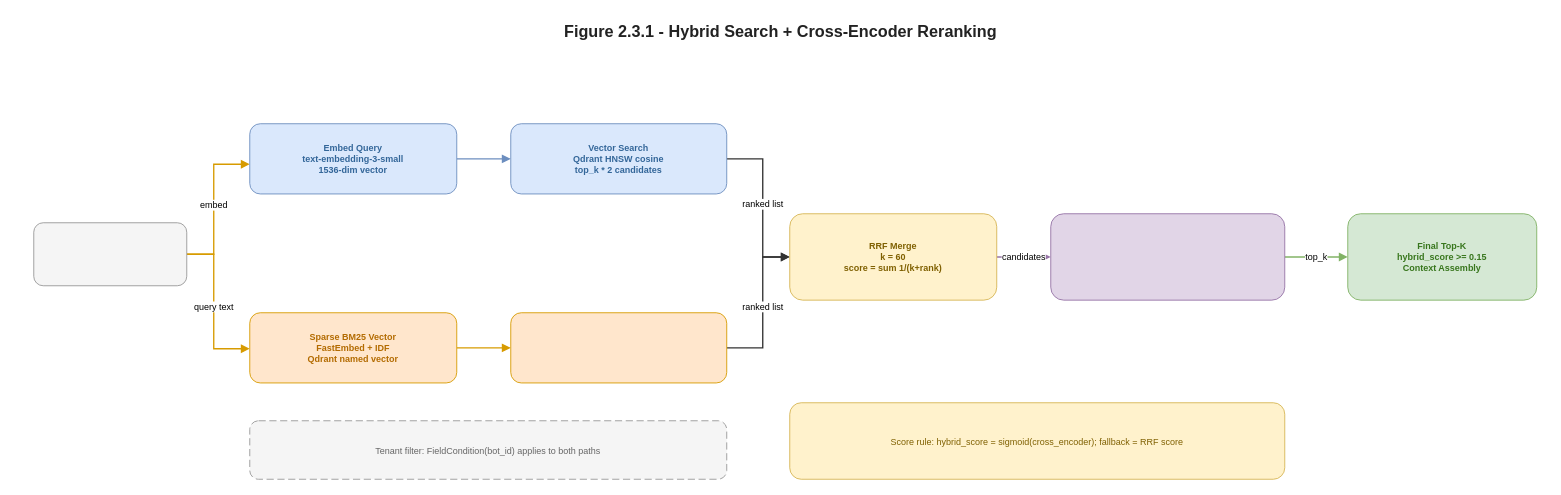
This 1561x495 diagram has some shape labels left out. The shapes that lost their labels are listed below. From the top down, each one's box as (x1, y1, x2, y2) in pixels, then its label:
(33, 222, 187, 286): Original Query
(1050, 213, 1285, 300): Cross-Encoder Rerank ms-marco / bge-reranker sigmoid normalize
(510, 312, 727, 383): Full-Text Results keyword matches top_k * 2 candidates
